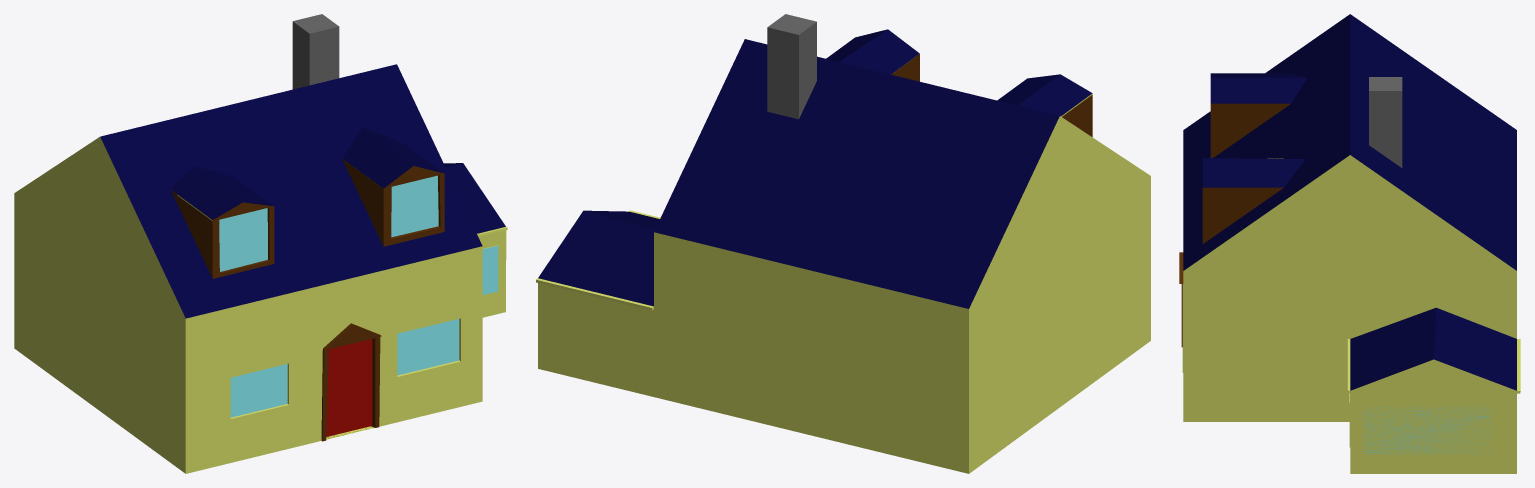
File: FamHouse.fbx
3 renders of one model, left to right at view 1: azimuth 30°, elevation 25°; view 2: azimuth 150°, elevation 25°; view 3: azimuth 270°, elevation 25°, orthographic. The views are drawn at different scales.
Parts seen in each view (by area): view 1: Cube; view 2: Cube; view 3: Cube.
Part boxes in pixels (x1,y1,x2,y2): Cube: (14,14,507,473); Cube: (536,14,1150,473); Cube: (1179,14,1520,473).
Bounding box in the file's own units: 2736 × 2040 × 2045.
